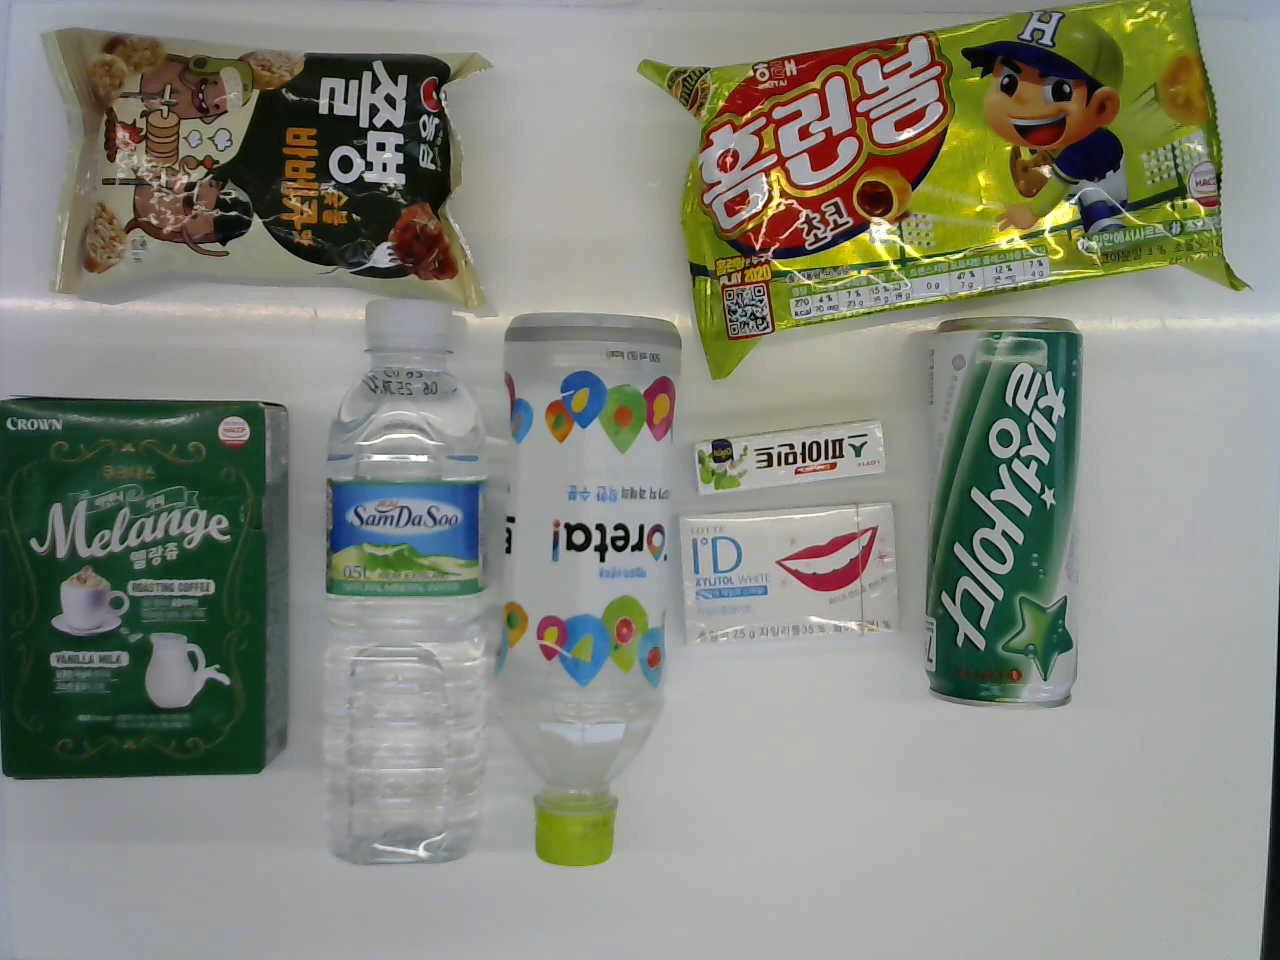ID_gum: (677, 498, 909, 681)
cidar: (919, 301, 1079, 739)
couque_coffee: (1, 382, 294, 802)
homerunball: (635, 0, 1249, 318)
jjolbyung_ori: (35, 21, 491, 307)
samdasu: (290, 283, 492, 891)
spearmint: (690, 405, 893, 501)
toreta: (488, 302, 691, 881)
